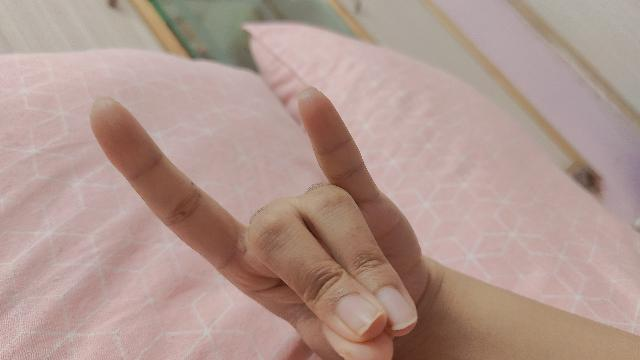sinhamukh: (91, 90, 640, 360)
